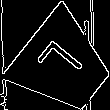L_SE: (35, 38, 92, 93)
